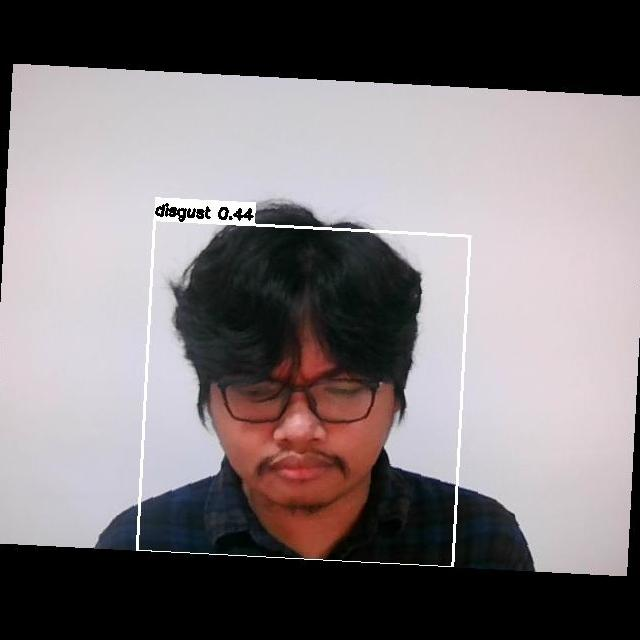Angry: (200, 345, 399, 500)
